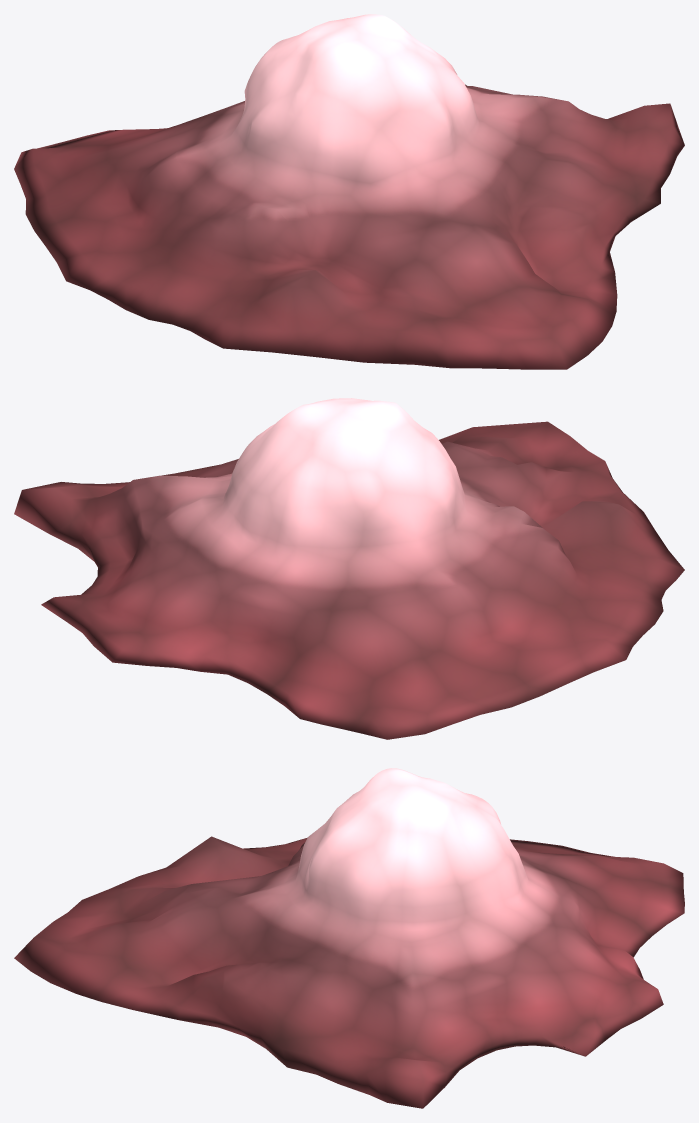
Rendered from Spore 2.fbx.
3 renders of one model, top to bottom at view 1: azimuth 30°, elevation 25°; view 2: azimuth 150°, elevation 25°; view 3: azimuth 270°, elevation 25°, orthographic. The views are drawn at different scales.
Parts seen in each view (by area): view 1: Spore 1.003; view 2: Spore 1.003; view 3: Spore 1.003.
Boxes of the visible parts, x1=… form: Spore 1.003: x1=14, y1=14, x2=684, y2=369; Spore 1.003: x1=14, y1=398, x2=684, y2=739; Spore 1.003: x1=14, y1=768, x2=684, y2=1108.
Size of the model in its own units: 209 by 60.75 by 212.
